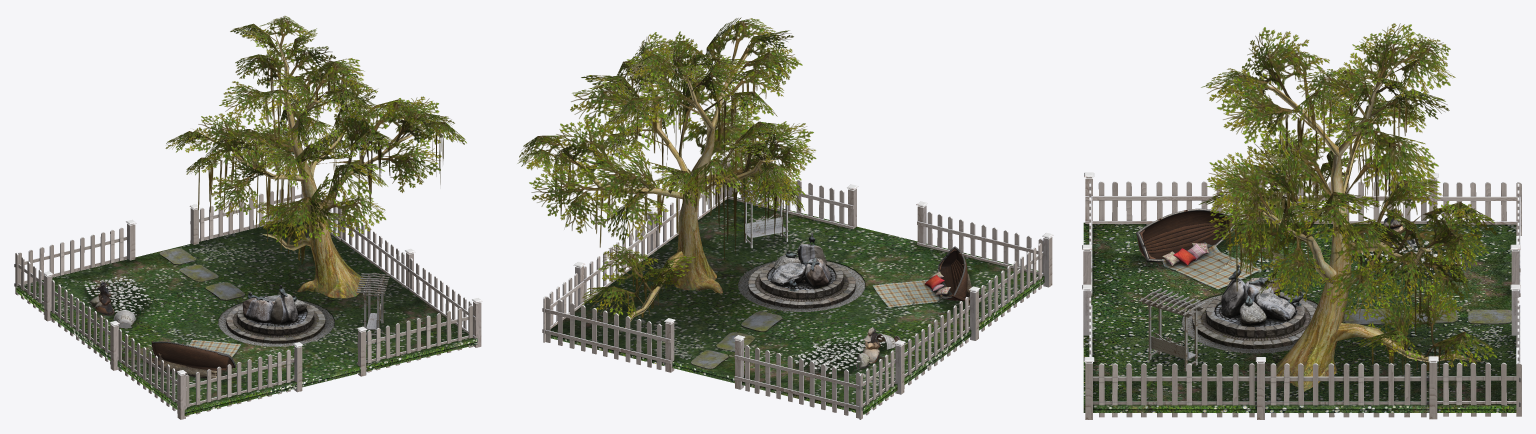
Rendered from sunday_garden_fun.glb.
The picture shows the model from 3 angles, left to right: view 1: azimuth 30°, elevation 25°; view 2: azimuth 150°, elevation 25°; view 3: azimuth 270°, elevation 25°; orthographic projection. The views are drawn at different scales.
Visible parts, largest first — view 1: treeobj:prim0, ground, fence9, fence7, mmGroup0, boat:prim2, prim0, rocks, bench:prim4, gravel; view 2: treeobj:prim0, ground, fence9, fence7, mmGroup0, boat:prim2, prim0, rocks, bench:prim4, gravel; view 3: treeobj:prim0, ground, fence7, fence9, mmGroup0, boat:prim2, bench:prim4, rocks, prim0, gravel.
Boxes of the visible parts, <box> form: treeobj:prim0: <box>165,16,466,298</box>; ground: <box>16,219,477,415</box>; fence9: <box>14,220,303,419</box>; fence7: <box>189,185,482,376</box>; mmGroup0: <box>226,285,325,343</box>; boat:prim2: <box>146,339,240,378</box>; prim0: <box>84,276,150,327</box>; rocks: <box>159,248,245,300</box>; bench:prim4: <box>356,273,389,336</box>; gravel: <box>218,300,334,346</box>; treeobj:prim0: <box>517,17,816,327</box>; ground: <box>550,197,1044,414</box>; fence9: <box>734,201,1053,419</box>; fence7: <box>542,154,858,372</box>; mmGroup0: <box>748,233,855,308</box>; boat:prim2: <box>873,246,981,307</box>; prim0: <box>794,327,900,376</box>; rocks: <box>691,311,782,369</box>; bench:prim4: <box>739,180,793,248</box>; gravel: <box>738,261,865,311</box>; treeobj:prim0: <box>1199,23,1499,391</box>; ground: <box>1083,222,1516,412</box>; fence7: <box>1082,284,1521,419</box>; fence9: <box>1082,172,1521,296</box>; mmGroup0: <box>1192,265,1315,348</box>; boat:prim2: <box>1136,208,1261,289</box>; bench:prim4: <box>1139,288,1205,371</box>; rocks: <box>1344,308,1511,324</box>; prim0: <box>1350,209,1469,274</box>; gravel: <box>1181,294,1317,353</box>.
Size of the model in its own units: 30.75 by 21.13 by 24.56.
26 materials, 24 textured.
